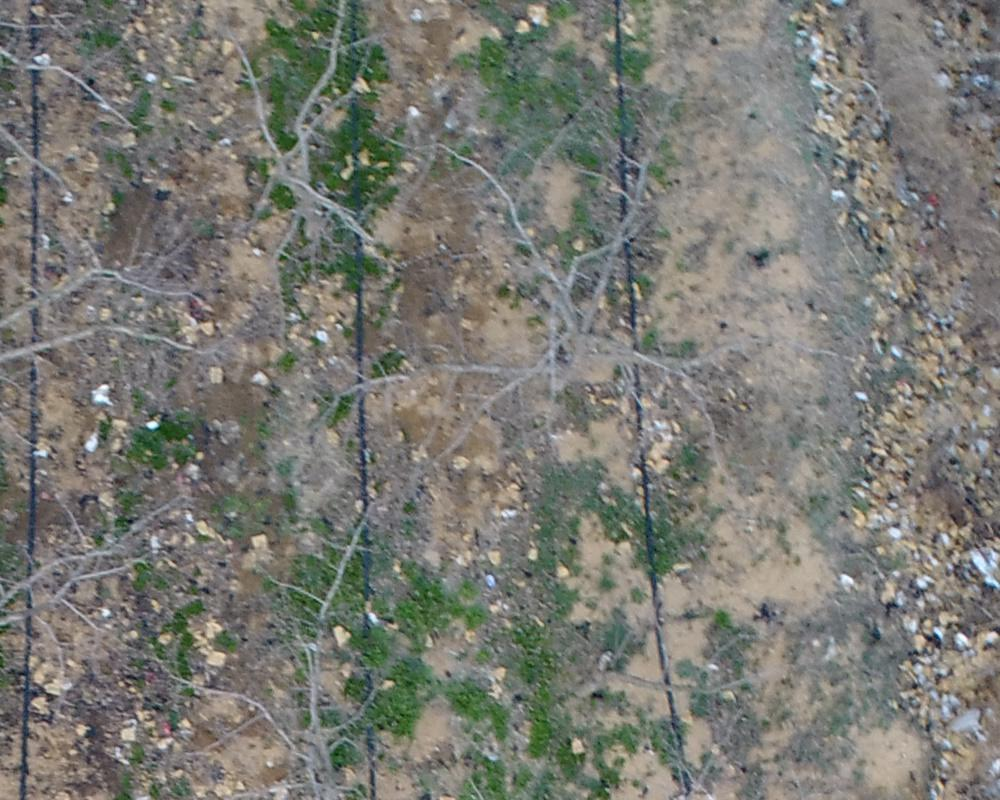apple: (328, 97, 737, 501), (173, 503, 400, 790), (194, 10, 417, 286), (536, 588, 795, 746)
